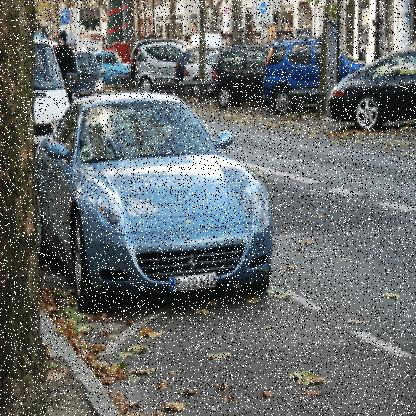licence: (168, 276, 218, 290)
